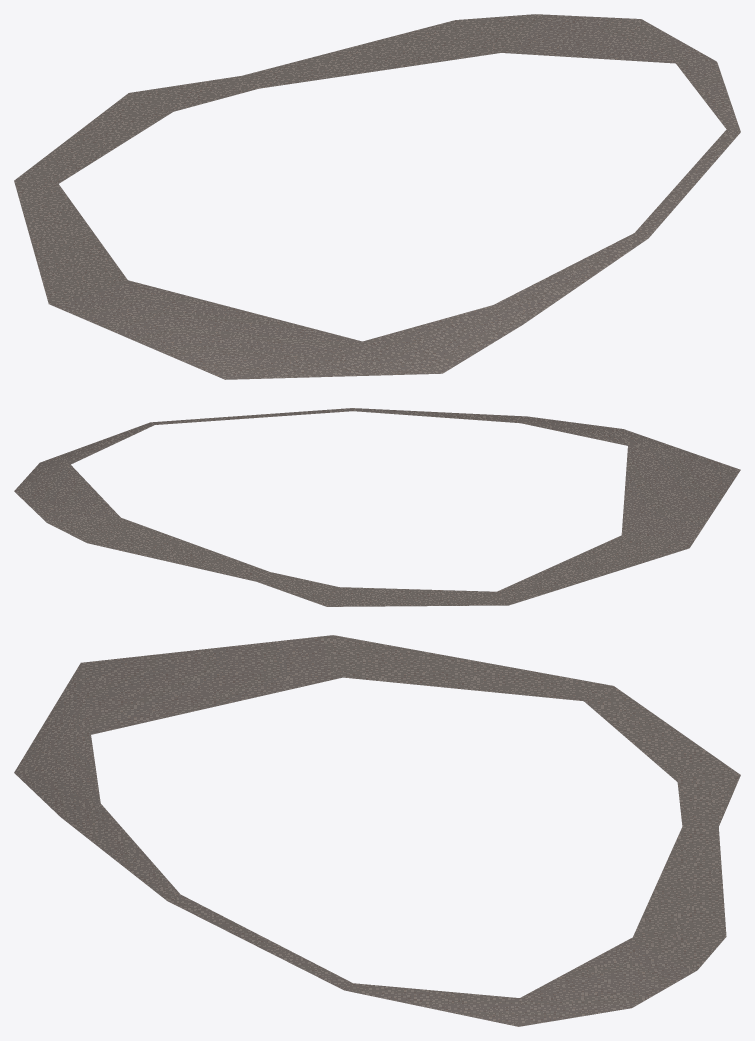
Rendered from kd_stage_135c43_4_139_bounded_piece_4.glb.
3 renders of one model, top to bottom at view 1: azimuth 30°, elevation 25°; view 2: azimuth 150°, elevation 25°; view 3: azimuth 270°, elevation 25°, orthographic. The views are drawn at different scales.
Parts seen in each view (by area): view 1: kd_stage_135c43_4_139_bounded_piece_4; view 2: kd_stage_135c43_4_139_bounded_piece_4; view 3: kd_stage_135c43_4_139_bounded_piece_4.
Part boxes in pixels (<box>): kd_stage_135c43_4_139_bounded_piece_4: <box>14,14,740,379</box>; kd_stage_135c43_4_139_bounded_piece_4: <box>14,408,740,606</box>; kd_stage_135c43_4_139_bounded_piece_4: <box>14,635,740,1026</box>.
Size of the model in its own units: 2.2 by 0.0433 by 1.77.
1 material, 1 textured.
